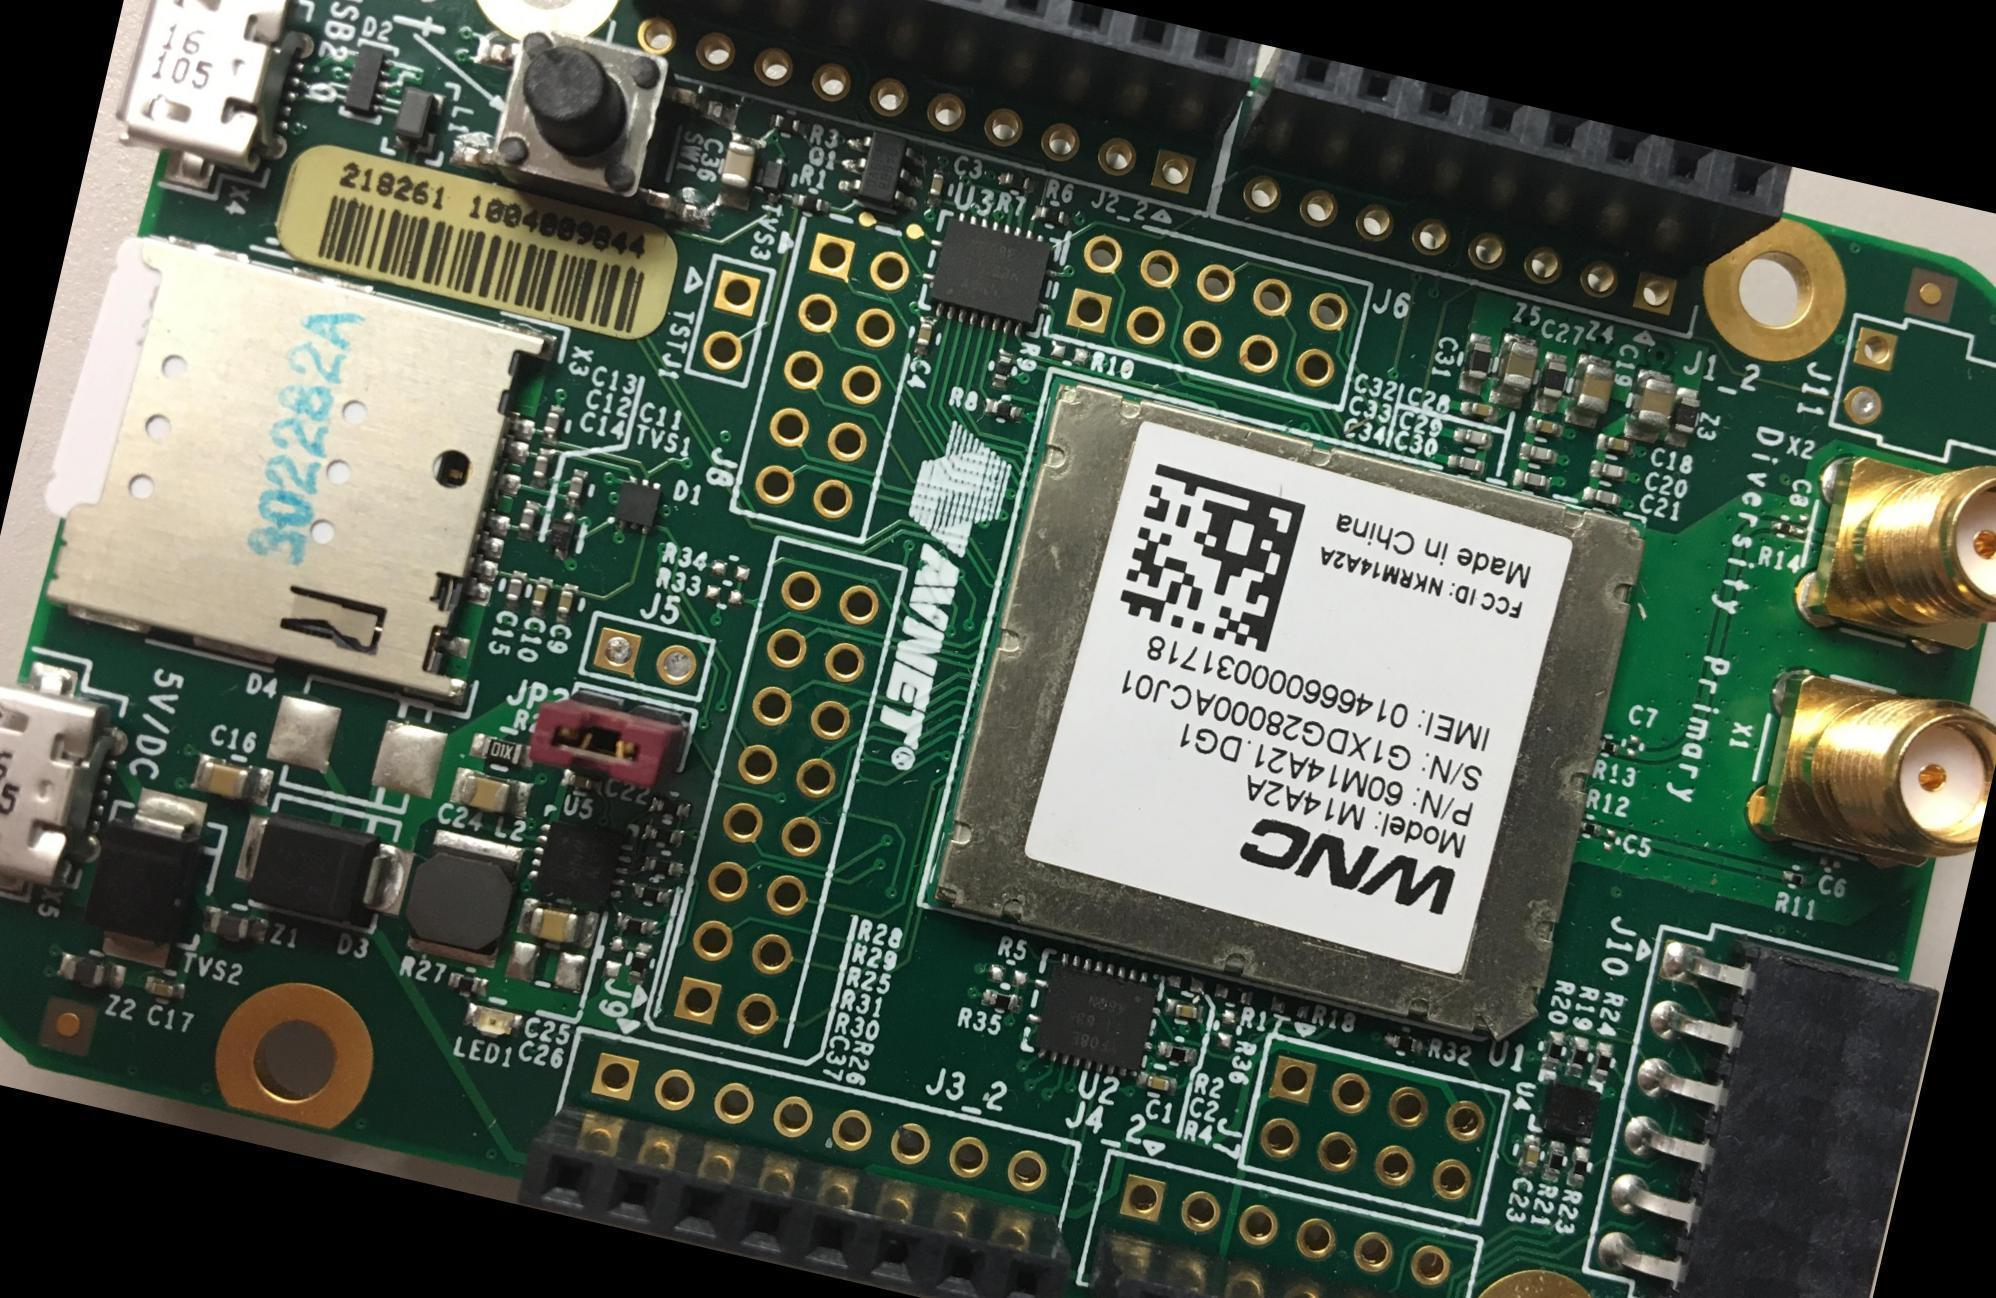Button: (446, 15, 745, 233)
Capacitor: (514, 895, 602, 952), (190, 754, 276, 806), (450, 766, 532, 819), (711, 131, 765, 213), (1531, 349, 1570, 416), (1664, 385, 1705, 450), (1457, 331, 1494, 396), (537, 400, 569, 447), (1161, 994, 1209, 1024), (561, 464, 591, 509), (514, 497, 543, 543), (528, 573, 557, 617), (1514, 1133, 1544, 1176), (559, 769, 605, 795), (500, 568, 528, 611), (909, 314, 937, 356), (1452, 424, 1496, 449), (555, 581, 582, 622), (923, 165, 949, 207), (1138, 1070, 1177, 1097), (1582, 485, 1621, 512), (1458, 397, 1499, 423), (529, 443, 554, 484), (1521, 415, 1563, 439), (1589, 457, 1628, 483), (1512, 467, 1551, 493), (1595, 432, 1635, 457), (1518, 440, 1557, 464), (1446, 451, 1485, 474)
Connector: (18, 219, 559, 718), (1204, 40, 1789, 346), (533, 1024, 1097, 1297), (1572, 907, 1945, 1297), (597, 0, 1277, 212), (656, 535, 903, 1061), (1064, 1150, 1549, 1297), (732, 211, 933, 543), (1043, 209, 1373, 405), (1739, 660, 1995, 887), (1237, 1032, 1512, 1225), (1787, 425, 1995, 674), (104, 0, 318, 208), (0, 637, 136, 914), (1824, 303, 1995, 476), (578, 609, 715, 701), (686, 252, 776, 387)
Diode: (230, 788, 421, 935), (85, 796, 225, 951), (837, 125, 931, 217), (338, 35, 397, 124), (610, 473, 663, 535), (543, 509, 587, 563)
IC: (922, 366, 1653, 1048), (917, 210, 1060, 337), (1021, 952, 1165, 1078), (527, 808, 634, 906), (1527, 1070, 1603, 1140)
Inductor: (396, 823, 522, 969), (384, 70, 456, 164)
Led: (460, 1001, 524, 1040)
Pads: (267, 690, 454, 800), (502, 938, 591, 996), (709, 551, 753, 587), (1209, 1006, 1242, 1051), (701, 581, 748, 611), (987, 963, 1031, 990), (603, 935, 629, 980), (1050, 341, 1092, 367), (1599, 825, 1618, 853), (1792, 511, 1811, 539), (1623, 731, 1641, 757), (1821, 854, 1843, 870)
Resistor: (469, 733, 535, 772), (639, 817, 685, 854), (1162, 968, 1210, 999), (447, 968, 492, 1001), (1381, 1025, 1425, 1057), (639, 852, 685, 884), (1538, 1140, 1568, 1185), (627, 880, 674, 909), (623, 940, 652, 987), (1563, 1145, 1591, 1191), (1211, 979, 1254, 1008), (1157, 1039, 1200, 1068), (648, 793, 692, 820), (1541, 1028, 1568, 1072), (1587, 1039, 1615, 1084), (787, 191, 832, 218), (1564, 1034, 1592, 1078), (1269, 994, 1314, 1020), (615, 913, 657, 939), (985, 396, 1023, 423), (982, 987, 1022, 1013), (769, 114, 807, 139), (994, 168, 1032, 193), (991, 349, 1016, 385), (1032, 203, 1066, 228), (1577, 817, 1602, 836), (1780, 869, 1806, 889), (1595, 738, 1618, 755), (1773, 519, 1794, 535)
